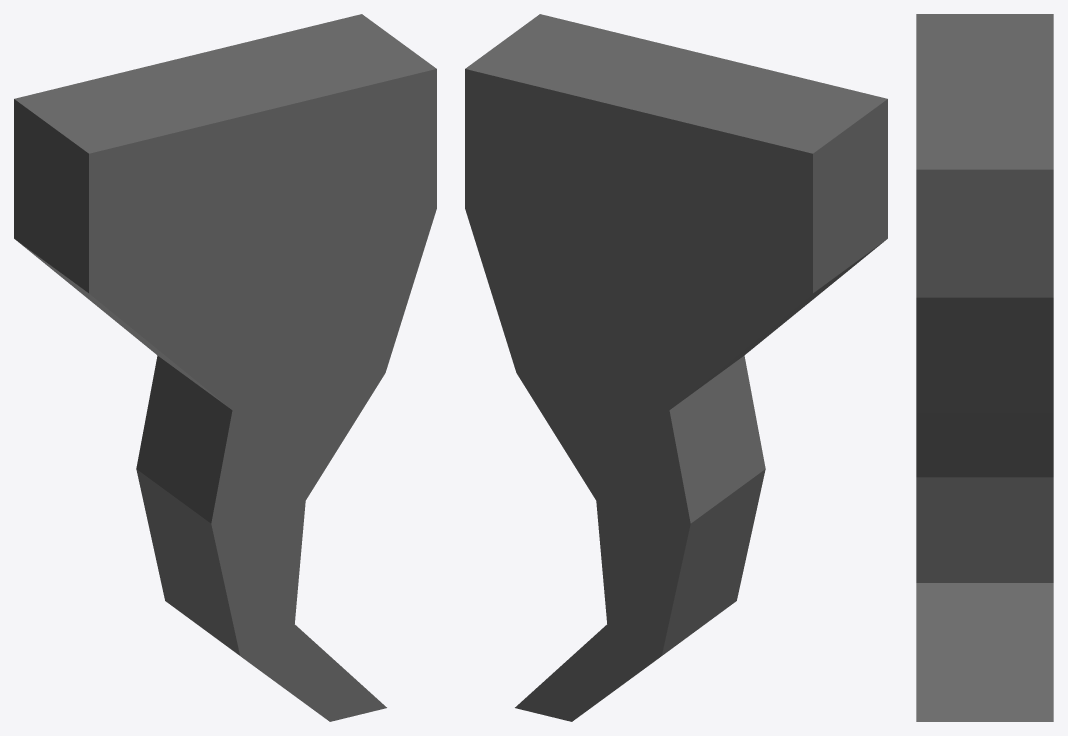
The model's file is Pistol5_03_3.fbx.
The picture shows the model from 3 angles, left to right: view 1: azimuth 30°, elevation 25°; view 2: azimuth 150°, elevation 25°; view 3: azimuth 270°, elevation 25°; orthographic projection. The views are drawn at different scales.
Parts seen in each view (by area): view 1: Pistol5_03_3; view 2: Pistol5_03_3; view 3: Pistol5_03_3.
Boxes of the visible parts, x1=… form: Pistol5_03_3: x1=14, y1=14, x2=436, y2=721; Pistol5_03_3: x1=465, y1=14, x2=887, y2=721; Pistol5_03_3: x1=916, y1=14, x2=1053, y2=721.
Bounding box in the file's own units: 0.0226 × 0.0389 × 0.00844.
